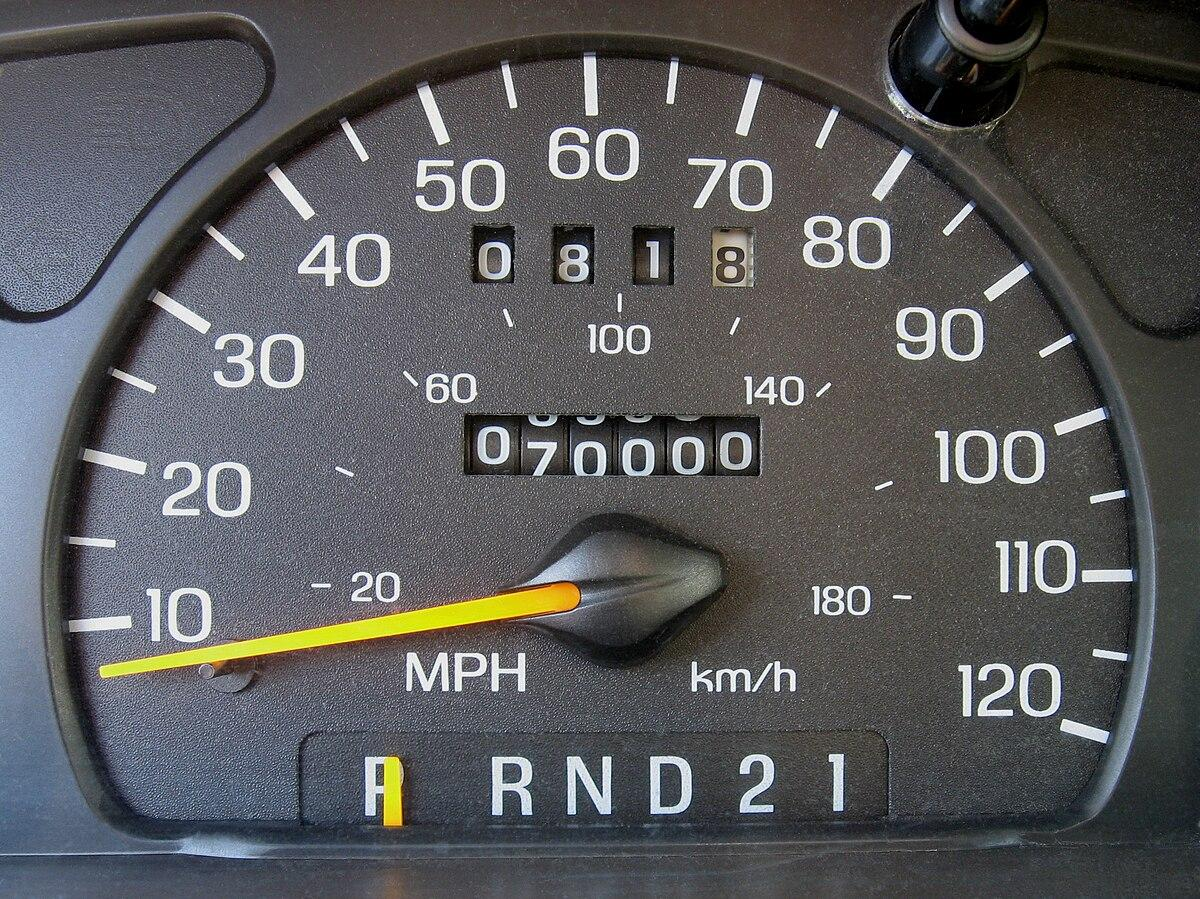0: (476, 424, 510, 468), (621, 437, 656, 476), (719, 430, 753, 469), (672, 435, 705, 473), (573, 440, 606, 477)
7: (525, 439, 558, 477)
odometer: (462, 409, 764, 484)
